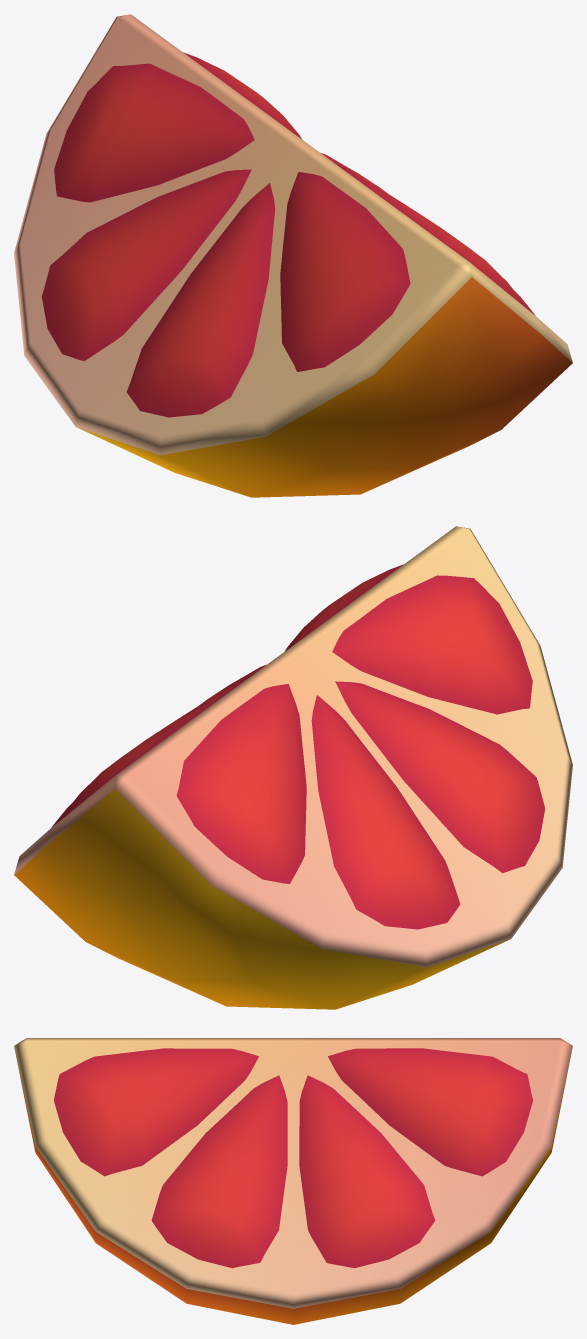
The model's file is grapefruit_003.fbx.
The picture shows the model from 3 angles, top to bottom: view 1: azimuth 30°, elevation 25°; view 2: azimuth 150°, elevation 25°; view 3: azimuth 270°, elevation 25°; orthographic projection. The views are drawn at different scales.
Parts seen in each view (by area): view 1: grapefruit_003; view 2: grapefruit_003; view 3: grapefruit_003.
Boxes of the visible parts, x1,y1,x2,y2 form: grapefruit_003: (14, 14, 572, 497); grapefruit_003: (14, 526, 572, 1009); grapefruit_003: (14, 1038, 572, 1324).
Bounding box in the file's own units: 7.62 × 10.78 × 5.5.
